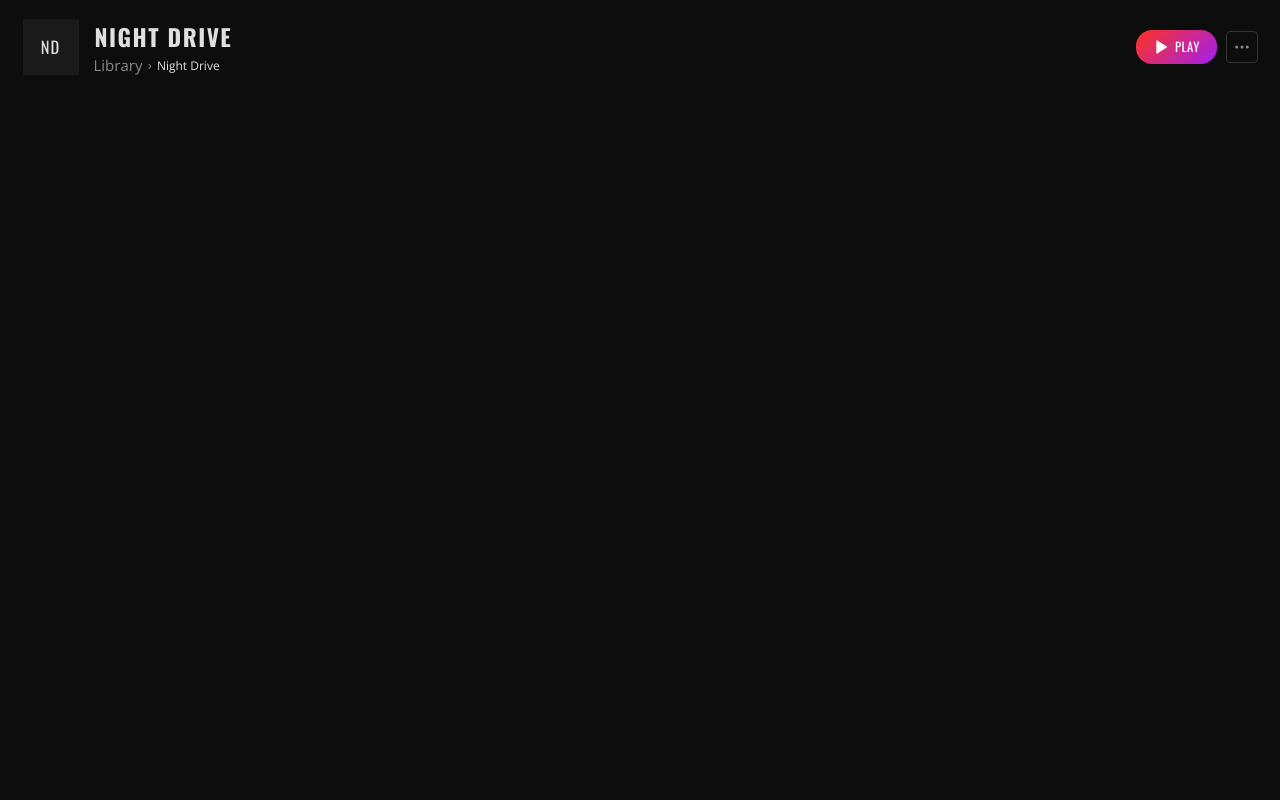
Test: CollectionHeader › forwards Rename in the menu to the title EditableTitle interaction
Click the button named "More".
click(1242, 46)  # box [1226,30,1258,62]
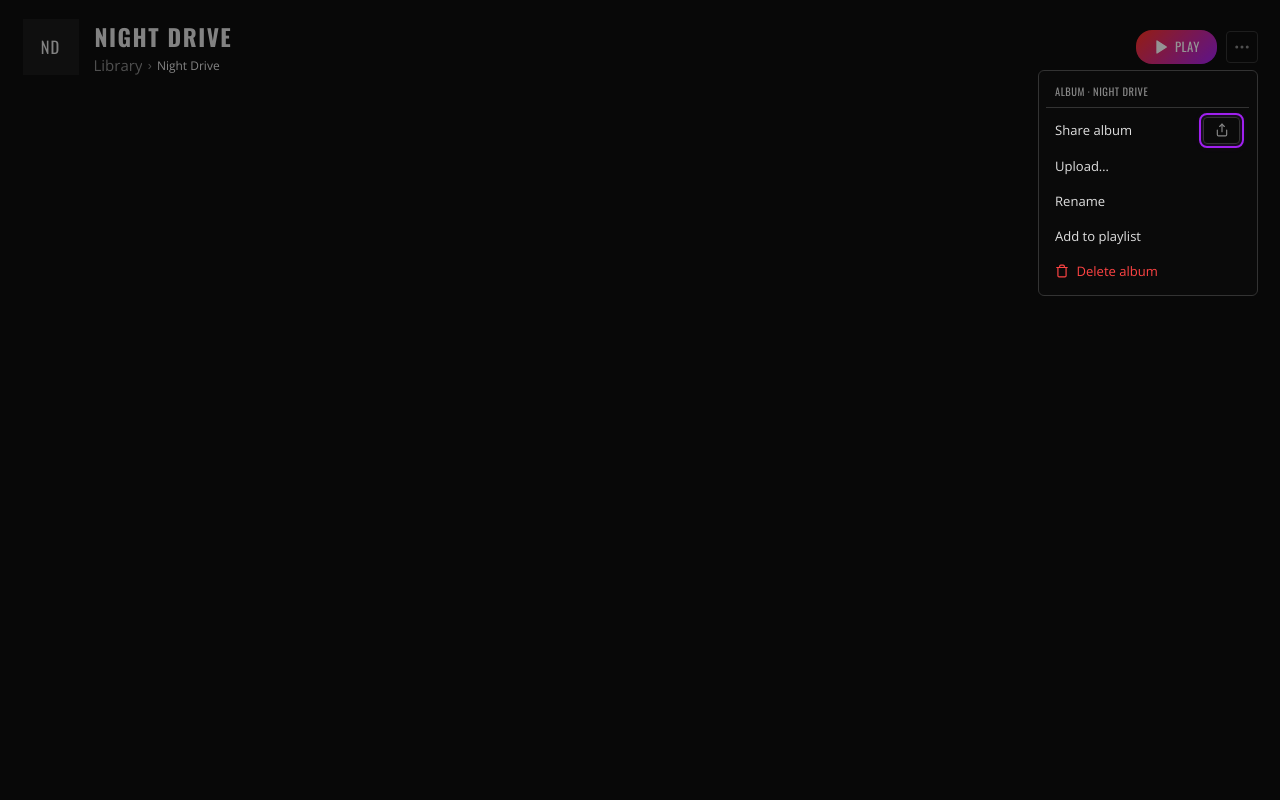
Click the button with class "menu-item" showing "Rename".
click(1148, 201)  # box [1046,185,1249,218]
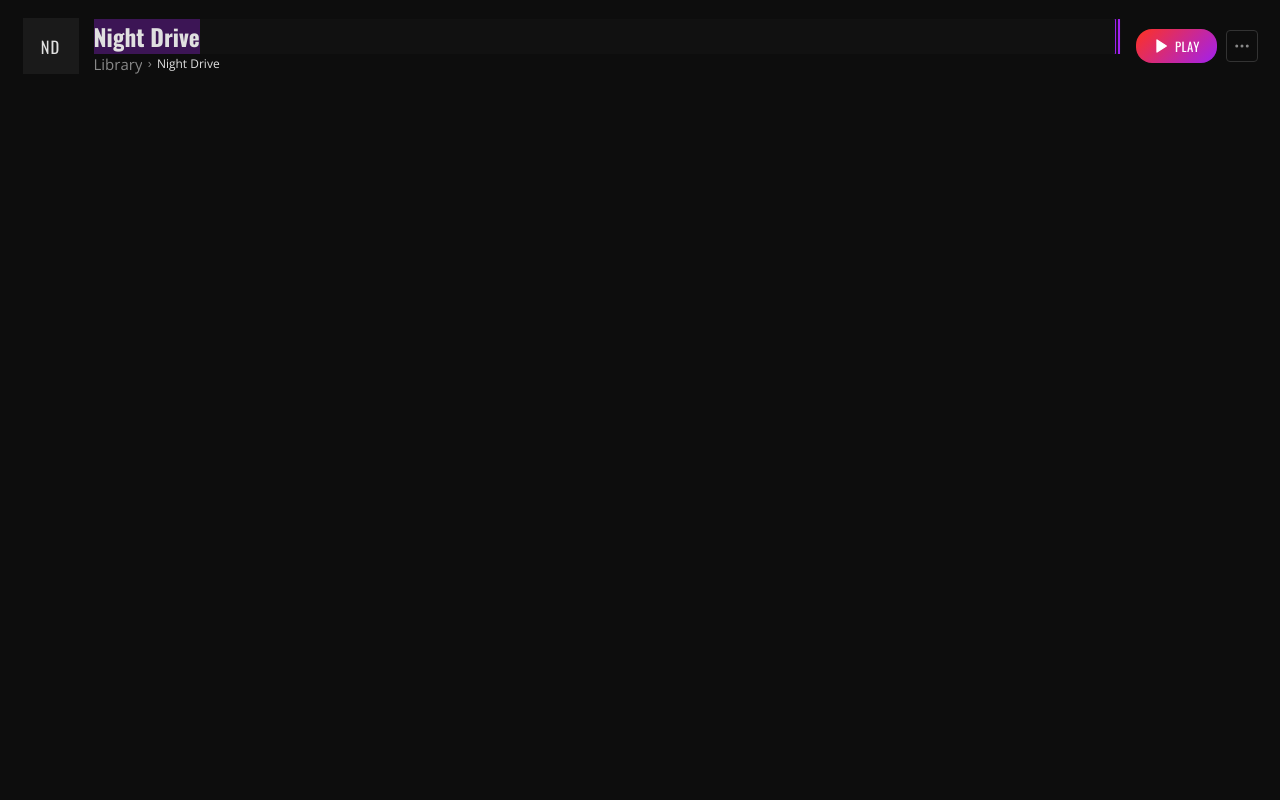
Expected: the field with class "editable-title-input" is shown, [94,18,1116,54]
